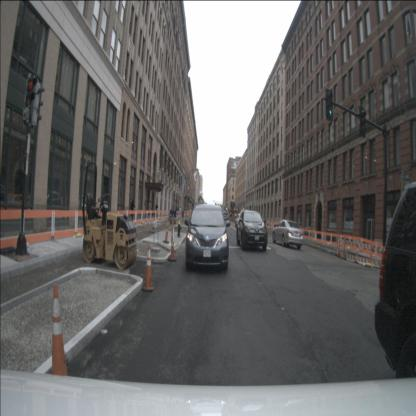cone: (48, 283, 71, 377), (141, 243, 155, 292), (167, 218, 177, 262), (163, 216, 170, 243), (368, 242, 374, 268), (341, 236, 347, 260), (353, 241, 359, 264), (337, 236, 341, 258), (314, 230, 318, 250)
